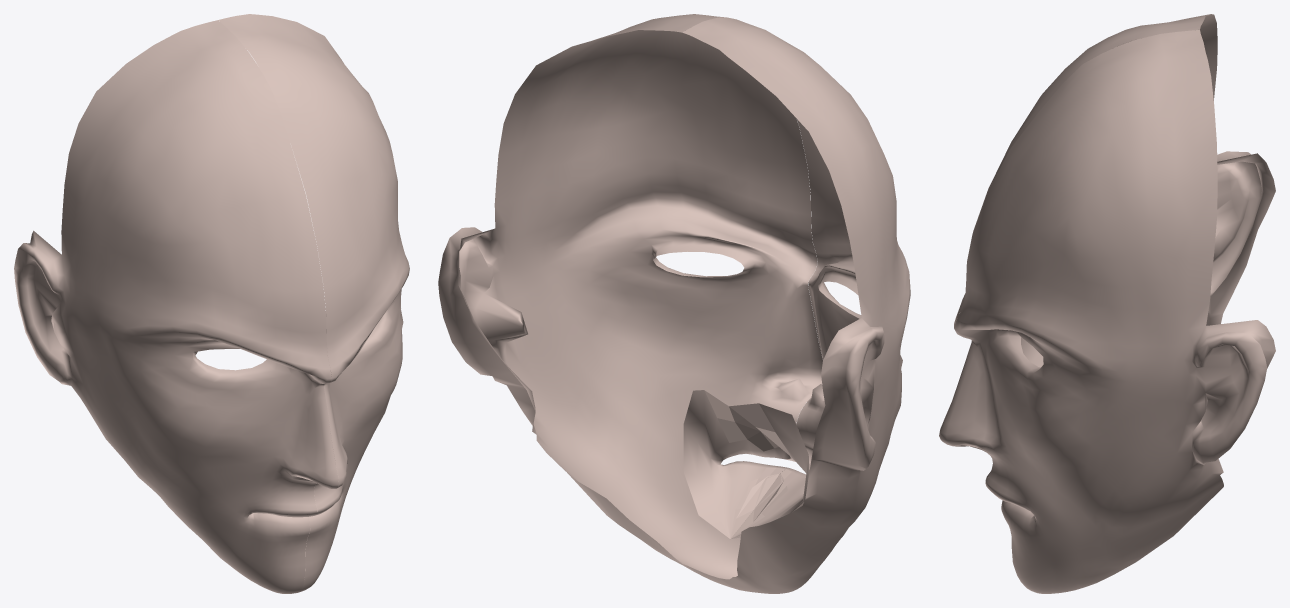
Rendered from facetest.fbx.
3 renders of one model, left to right at view 1: azimuth 30°, elevation 25°; view 2: azimuth 150°, elevation 25°; view 3: azimuth 270°, elevation 25°, orthographic. The views are drawn at different scales.
Visible parts, largest first — view 1: polySurface4, polySurface5; view 2: polySurface5, polySurface4; view 3: polySurface5, polySurface4.
Boxes of the visible parts, <box> form: polySurface4: <box>14,20,338,593</box>; polySurface5: <box>218,14,409,591</box>; polySurface5: <box>438,14,822,589</box>; polySurface4: <box>682,17,910,593</box>; polySurface5: <box>939,29,1275,593</box>; polySurface4: <box>941,14,1275,506</box>.
Bounding box in the file's own units: 15.07 × 21.43 × 11.71.
